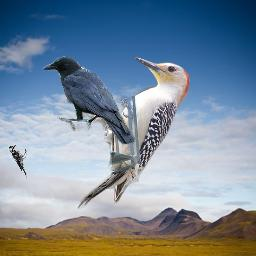Crow: (42, 56, 136, 147)
Woodpecker: (77, 54, 193, 209), (8, 144, 27, 178)
